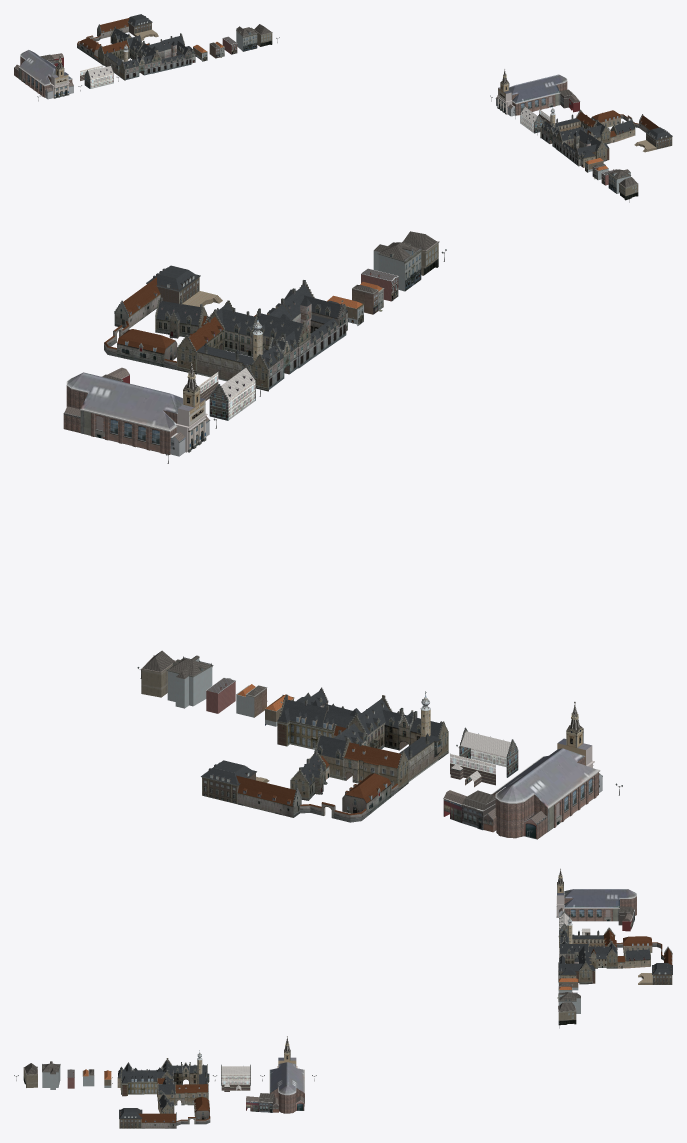
File: Town3.glb
3 views of the same model, one above another, from view 1: azimuth 30°, elevation 25°; view 2: azimuth 150°, elevation 25°; view 3: azimuth 270°, elevation 25° (orthographic). The views are drawn at different scales.
Visible parts, largest first — view 1: Object_104.003; view 2: Object_104.003; view 3: Object_104.003.
Part boxes in pixels (x1=…): Object_104.003: x1=14, y1=14, x2=672, y2=202; Object_104.003: x1=63, y1=231, x2=622, y2=839; Object_104.003: x1=14, y1=868, x2=672, y2=1128.
Size of the model in its own units: 383 by 35.61 by 468.
94 materials, 87 textured.
